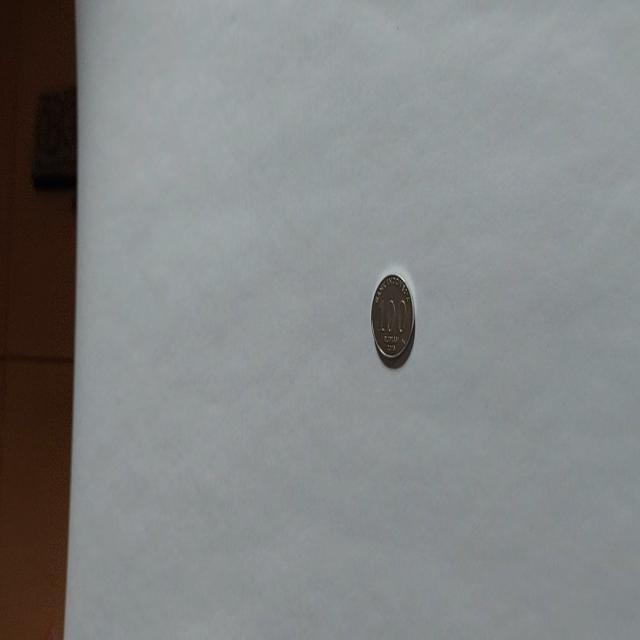seratus rupiah: (370, 271, 415, 367)
